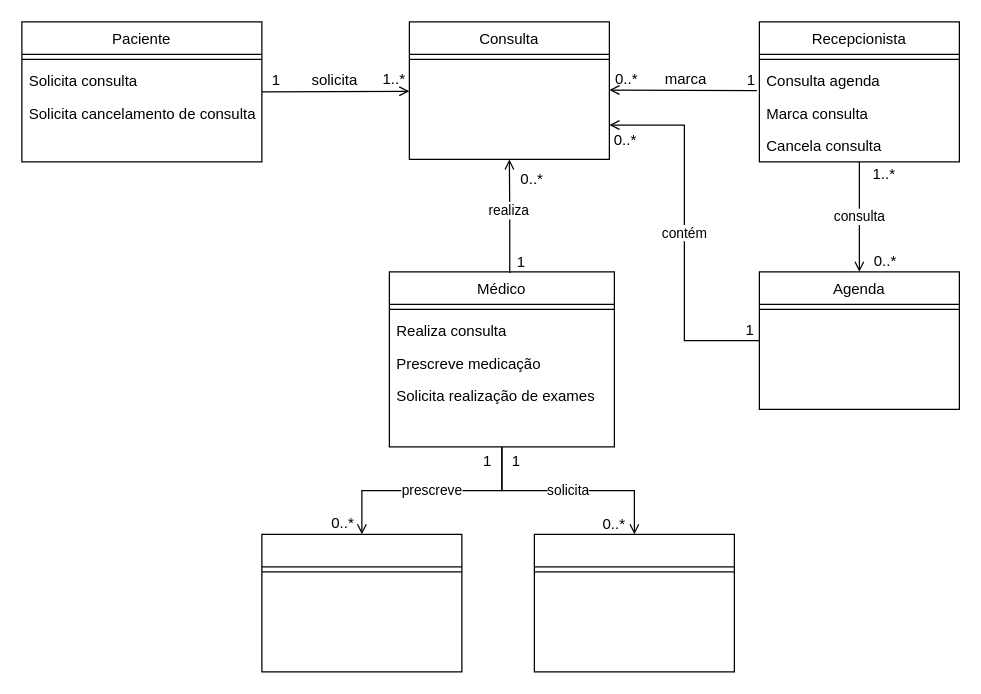
The diagram is 981 pixels wide and 694 high, and some of its shapes have lost their labels. The shapes that lost their labels are listed below. From the top down, each one's centre as x and y in pixels, then its label:
pixel 361 602: Medicação
pixel 633 602: Exame
